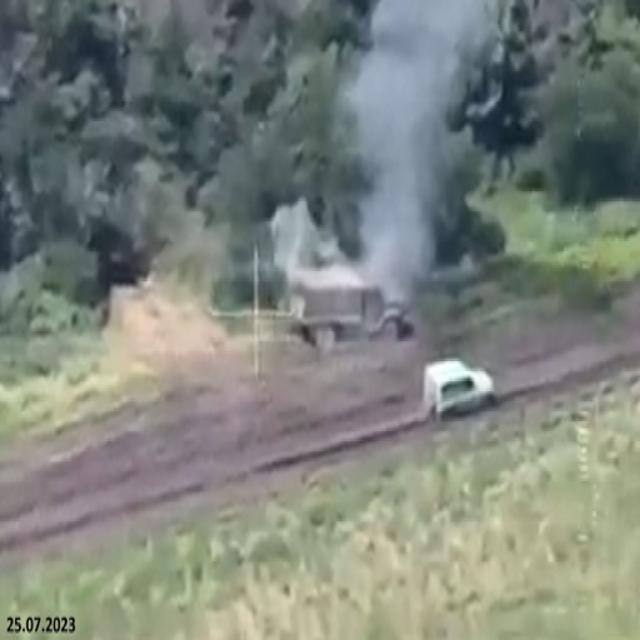CAR: (419, 353, 499, 422)
TRUCK: (286, 258, 410, 353)
